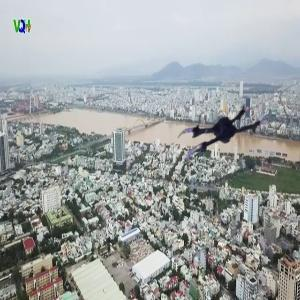drone: (180, 95, 272, 187)
